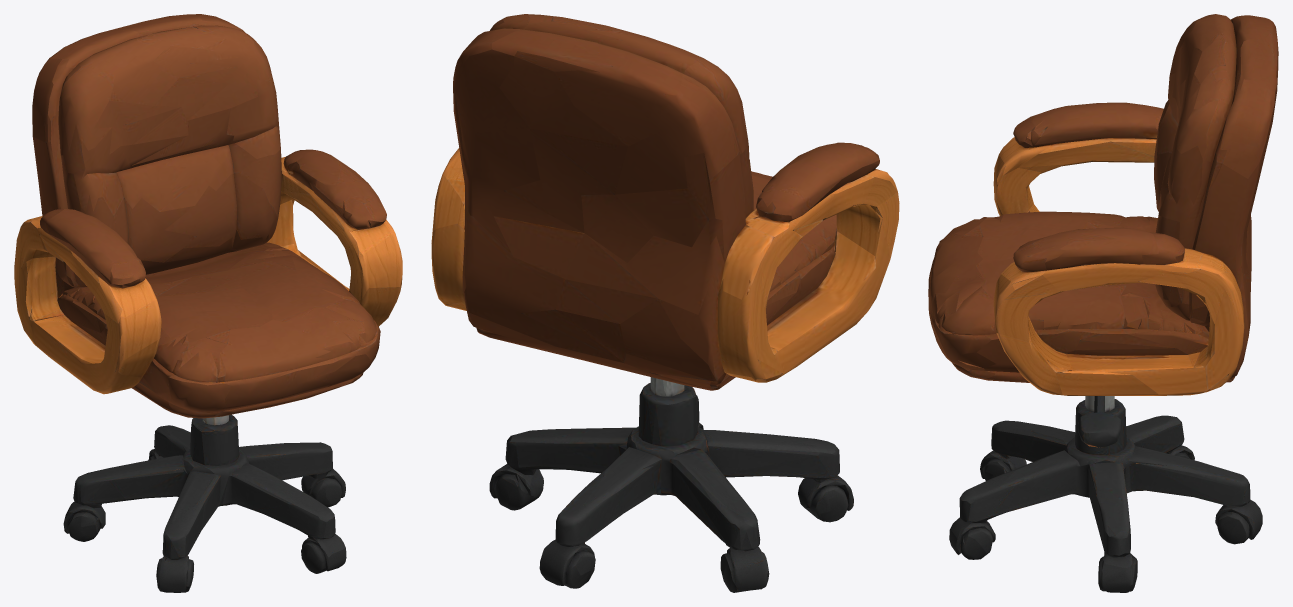
Rendered from chair_brown.glb.
3 renders of one model, left to right at view 1: azimuth 30°, elevation 25°; view 2: azimuth 150°, elevation 25°; view 3: azimuth 270°, elevation 25°, orthographic. The views are drawn at different scales.
Parts seen in each view (by area): view 1: mesh_node; view 2: mesh_node; view 3: mesh_node.
Boxes of the visible parts, x1,y1,x2,y2 form: mesh_node: (14,14,402,592); mesh_node: (431,14,899,592); mesh_node: (928,14,1278,592).
Size of the model in its own units: 0.2989 by 0.4613 by 0.3.
1 material, 1 textured.
